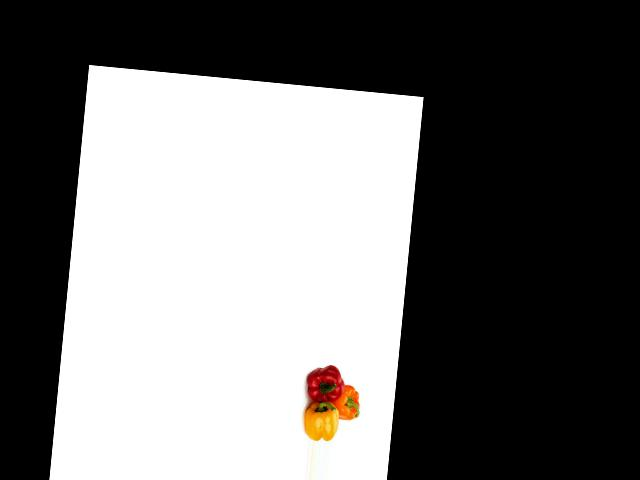bell_pepper: (299, 401, 341, 442)
